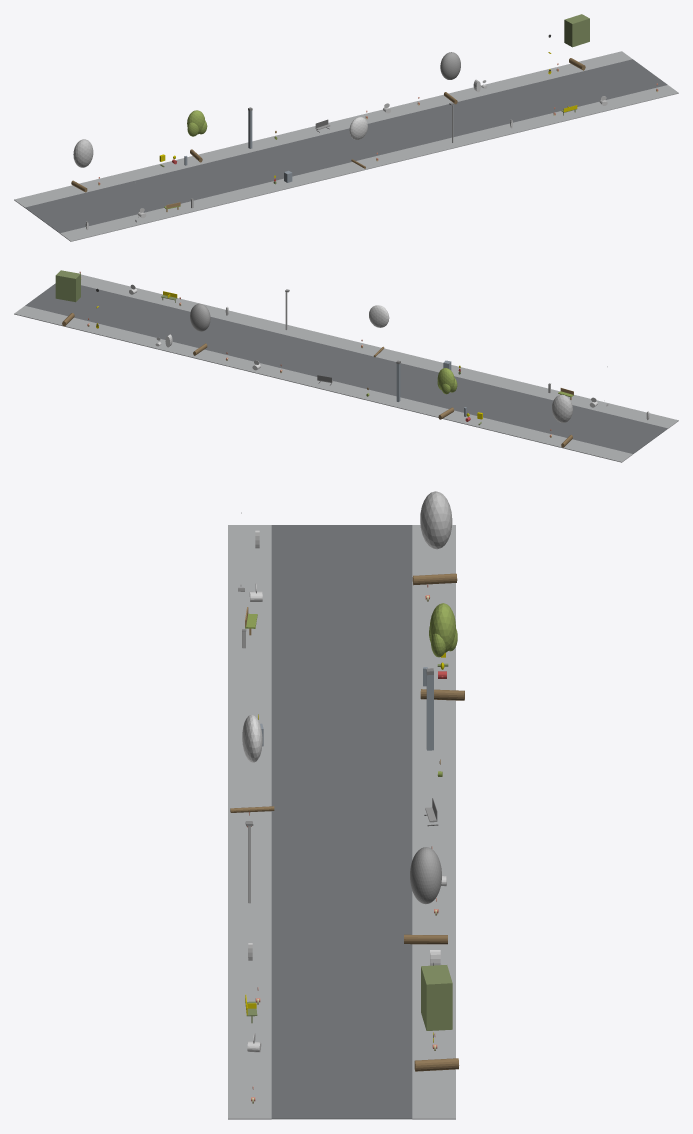
3 renders of one model, top to bottom at view 1: azimuth 30°, elevation 25°; view 2: azimuth 150°, elevation 25°; view 3: azimuth 270°, elevation 25°, orthographic. The views are drawn at different scales.
Parts seen in each view (by area): view 1: road_slab, sidewalk_left, sidewalk_right, inst_0016, inst_0012, inst_0015, inst_0013, inst_0014; view 2: road_slab, sidewalk_right, sidewalk_left, inst_0016, inst_0015, inst_0012, inst_0013, inst_0014; view 3: road_slab, sidewalk_left, sidewalk_right, inst_0016, inst_0012, inst_0015, inst_0013, inst_0014.
Boxes of the visible parts, <box> form: road_slab: <box>25,59,667,233</box>; sidewalk_left: <box>60,85,678,241</box>; sidewalk_right: <box>14,51,632,207</box>; inst_0016: <box>564,14,589,70</box>; inst_0012: <box>71,139,93,192</box>; inst_0015: <box>440,52,460,104</box>; inst_0013: <box>187,110,207,162</box>; inst_0014: <box>349,117,367,168</box>; road_slab: <box>25,283,667,453</box>; sidewalk_right: <box>14,306,632,462</box>; sidewalk_left: <box>81,274,678,428</box>; inst_0016: <box>55,270,80,326</box>; inst_0015: <box>190,303,210,355</box>; inst_0012: <box>552,394,572,447</box>; inst_0013: <box>437,368,457,419</box>; inst_0014: <box>369,305,389,357</box>; road_slab: <box>271,525,412,1119</box>; sidewalk_left: <box>228,525,271,1119</box>; sidewalk_right: <box>412,525,455,1119</box>; inst_0016: <box>414,965,459,1071</box>; inst_0012: <box>412,491,457,585</box>; inst_0015: <box>404,847,447,944</box>; inst_0013: <box>420,603,464,700</box>; inst_0014: <box>230,715,274,812</box>.
Bounding box in the file's own units: 80 × 6.08 × 13.51.
